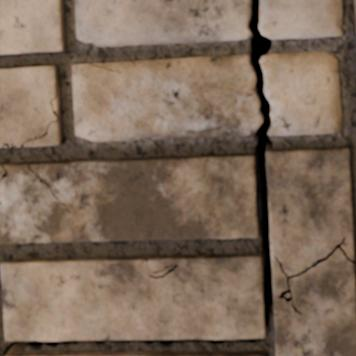brick: (1, 254, 264, 340), (0, 155, 257, 243), (267, 147, 353, 274), (272, 250, 355, 355), (0, 66, 59, 146), (0, 0, 64, 54), (25, 119, 61, 145), (7, 352, 264, 355), (0, 168, 3, 175), (354, 0, 355, 13)
broken_brick: (71, 53, 261, 142), (74, 0, 249, 47), (261, 51, 342, 136), (260, 0, 343, 40)
crack: (2, 0, 354, 355), (0, 91, 59, 149), (88, 63, 122, 74), (0, 164, 7, 184)
